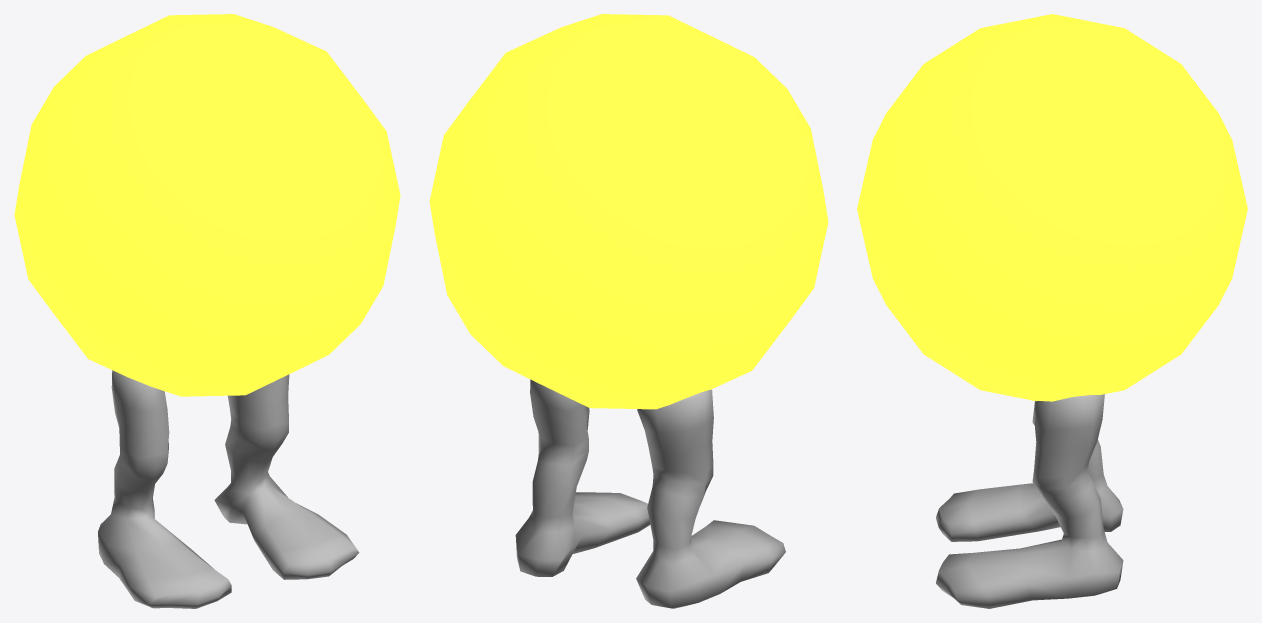
The model's file is Mob_01.fbx.
The picture shows the model from 3 angles, left to right: view 1: azimuth 30°, elevation 25°; view 2: azimuth 150°, elevation 25°; view 3: azimuth 270°, elevation 25°; orthographic projection. The views are drawn at different scales.
Parts seen in each view (by area): view 1: Eye, Legs; view 2: Eye, Legs; view 3: Eye, Legs.
Part boxes in pixels (bbox=[...]): Eye: bbox=[14, 14, 400, 396]; Legs: bbox=[98, 370, 359, 608]; Eye: bbox=[429, 14, 828, 409]; Legs: bbox=[515, 379, 785, 608]; Eye: bbox=[857, 14, 1247, 401]; Legs: bbox=[936, 394, 1123, 608].
Size of the model in its own units: 91.65 by 137 by 91.65.
